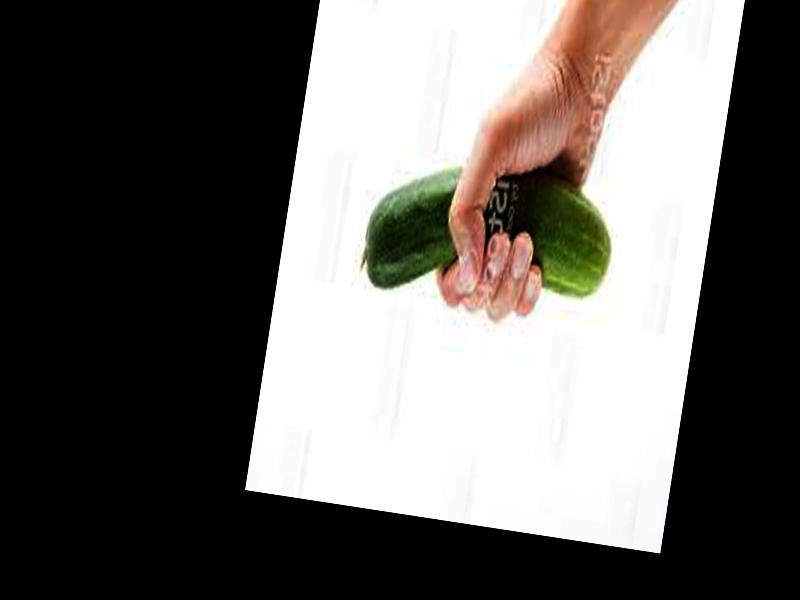Cucumber: (358, 145, 620, 324)
